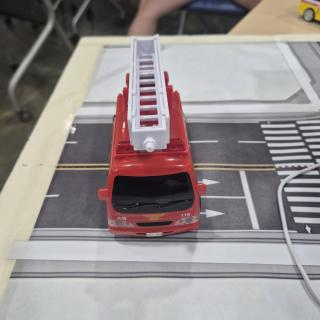Fire_truck: (98, 36, 206, 237)
